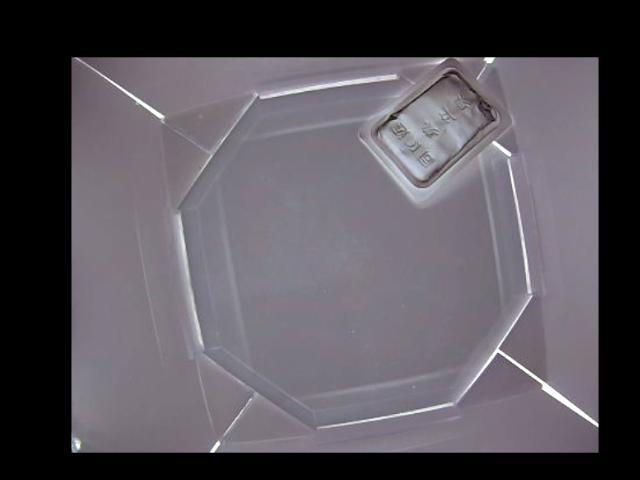Medicine: (357, 58, 515, 199)
